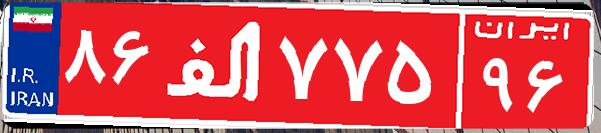5: (385, 28, 445, 110)
6: (110, 28, 158, 105), (525, 38, 570, 115)
7: (273, 28, 330, 110), (330, 28, 385, 110)
8: (57, 26, 110, 107)
9: (475, 38, 525, 113)
الف: (158, 15, 273, 115)
